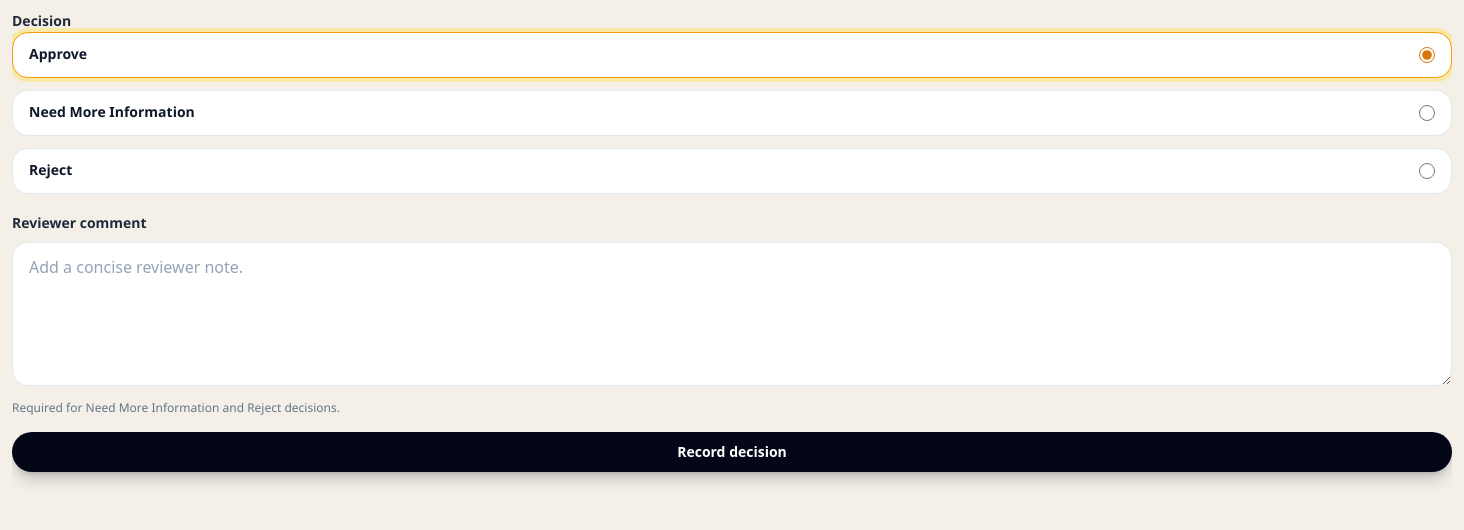
ReviewerDecisionForm › requires comments for rejected decisions
Click the radio button labelled "Reject": (1427, 171) 1419,163 -> 1435,179
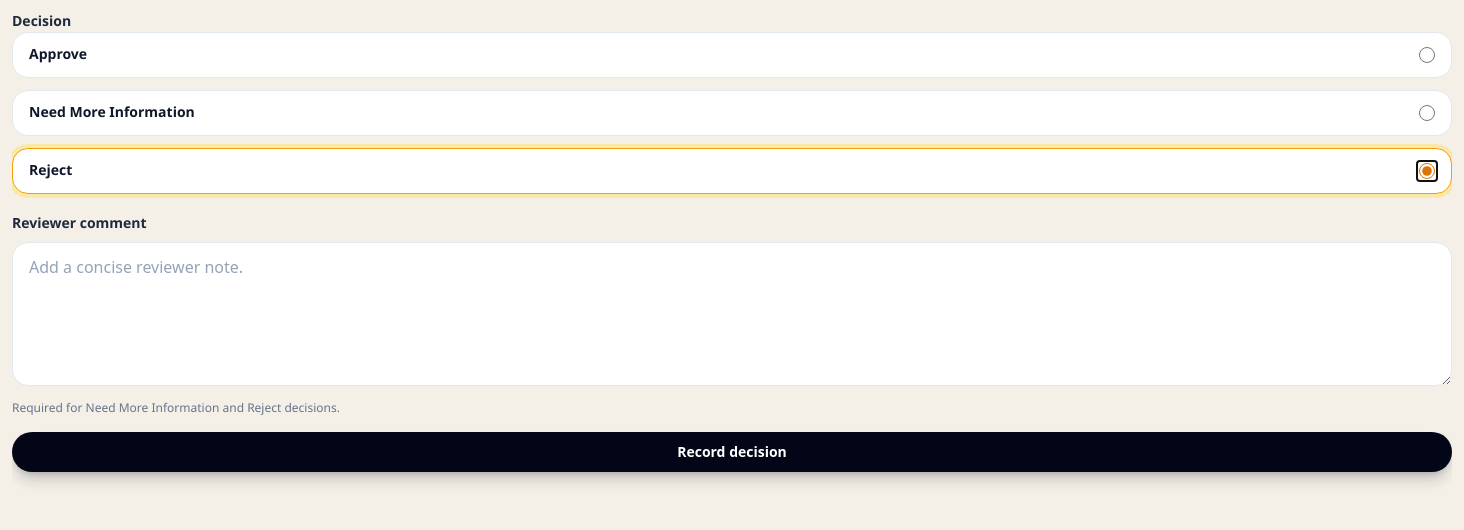
Click the button "Record decision": (732, 452) 12,432 -> 1452,472
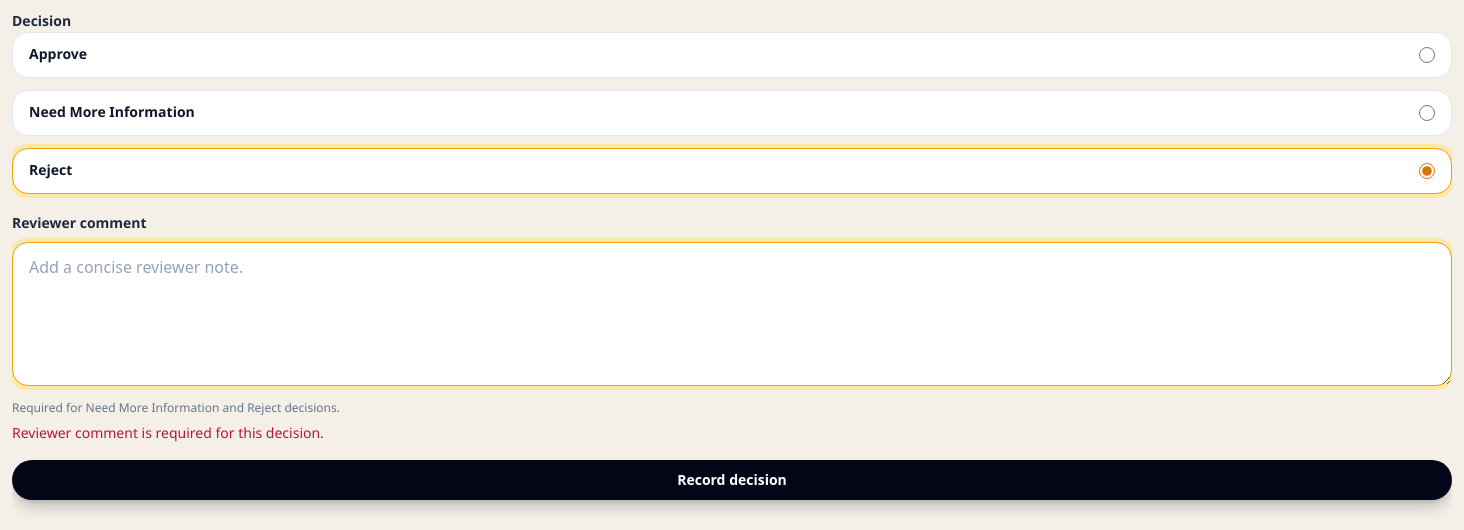
Result: the text "Reviewer comment is required for this decision." is shown at 12,424 -> 324,443
